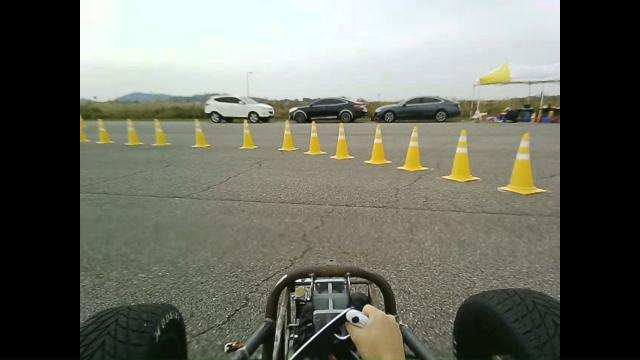yellow cone: (497, 132, 547, 195), (441, 128, 481, 183), (396, 125, 428, 172), (363, 123, 392, 165), (330, 122, 354, 160), (303, 120, 326, 155), (238, 118, 258, 150), (278, 119, 298, 151), (190, 118, 210, 148), (124, 117, 144, 146), (151, 117, 171, 146), (95, 118, 115, 144), (79, 114, 90, 143)
